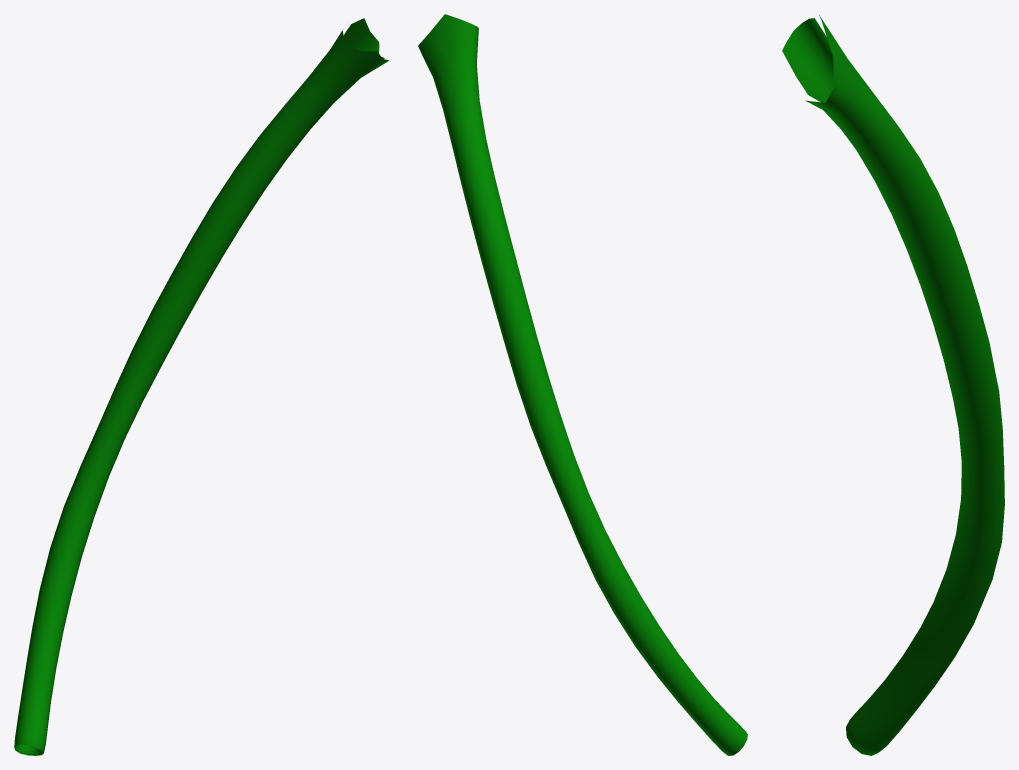
File: VH_F_Ducts_of_Gallbladder.glb
3 views of the same model, side by side, from view 1: azimuth 30°, elevation 25°; view 2: azimuth 150°, elevation 25°; view 3: azimuth 270°, elevation 25° (orthographic). The views are drawn at different scales.
Visible parts, largest first — view 1: VH_F_cystic_duct; view 2: VH_F_cystic_duct; view 3: VH_F_cystic_duct.
Boxes of the visible parts, <box> form: VH_F_cystic_duct: <box>14,18,389,755</box>; VH_F_cystic_duct: <box>418,14,747,755</box>; VH_F_cystic_duct: <box>782,15,1004,755</box>.
Bounding box in the file's own units: 0.0162 × 0.0298 × 0.00654.
